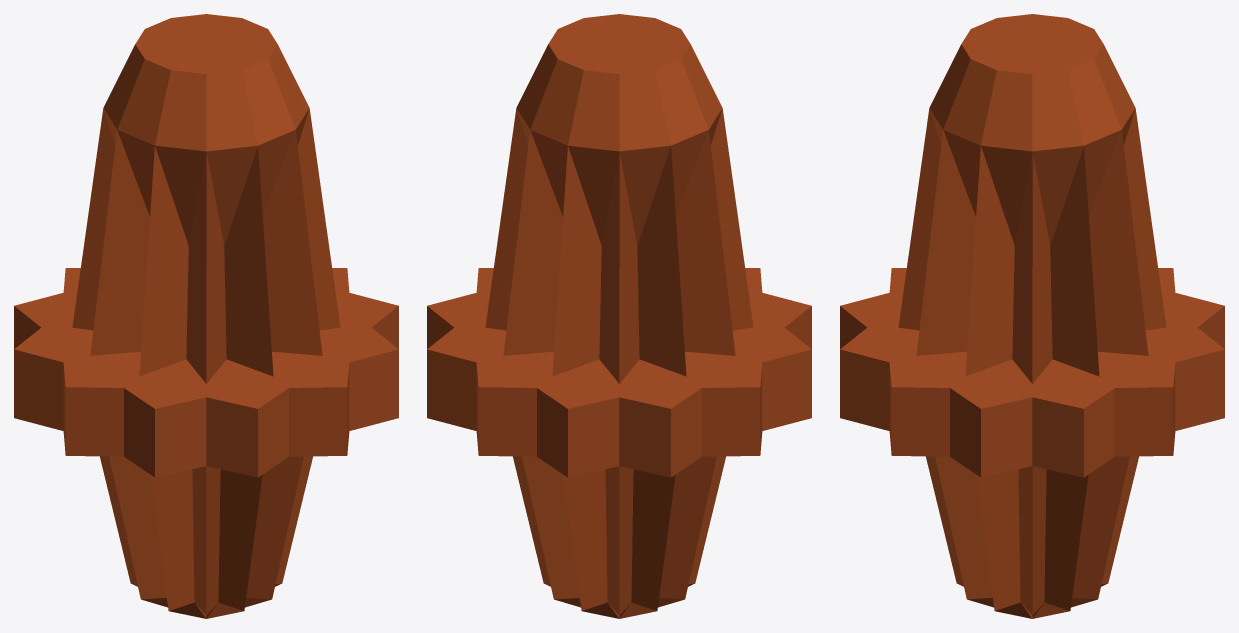
File: 3Bit.fbx
The picture shows the model from 3 angles, left to right: view 1: azimuth 30°, elevation 25°; view 2: azimuth 150°, elevation 25°; view 3: azimuth 270°, elevation 25°; orthographic projection.
Visible parts, largest first — view 1: 3Bit; view 2: 3Bit; view 3: 3Bit.
Part boxes in pixels (bbox=[...]): 3Bit: bbox=[14, 14, 398, 618]; 3Bit: bbox=[427, 14, 811, 618]; 3Bit: bbox=[840, 14, 1224, 618].
Size of the model in its own units: 152 by 251 by 152.
